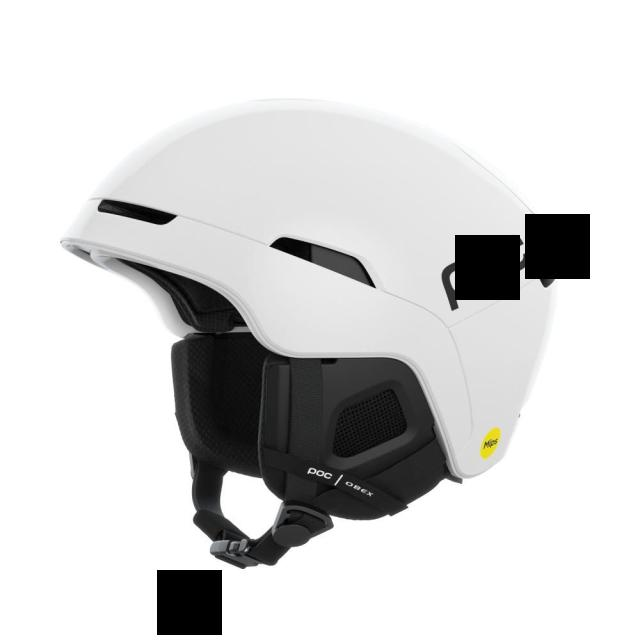Helmet: (61, 100, 558, 522)
